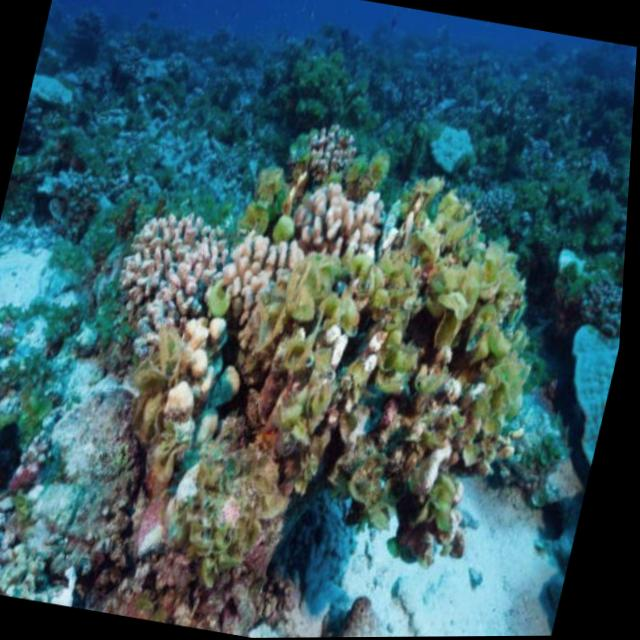Healthy Coral: (79, 104, 576, 561)
